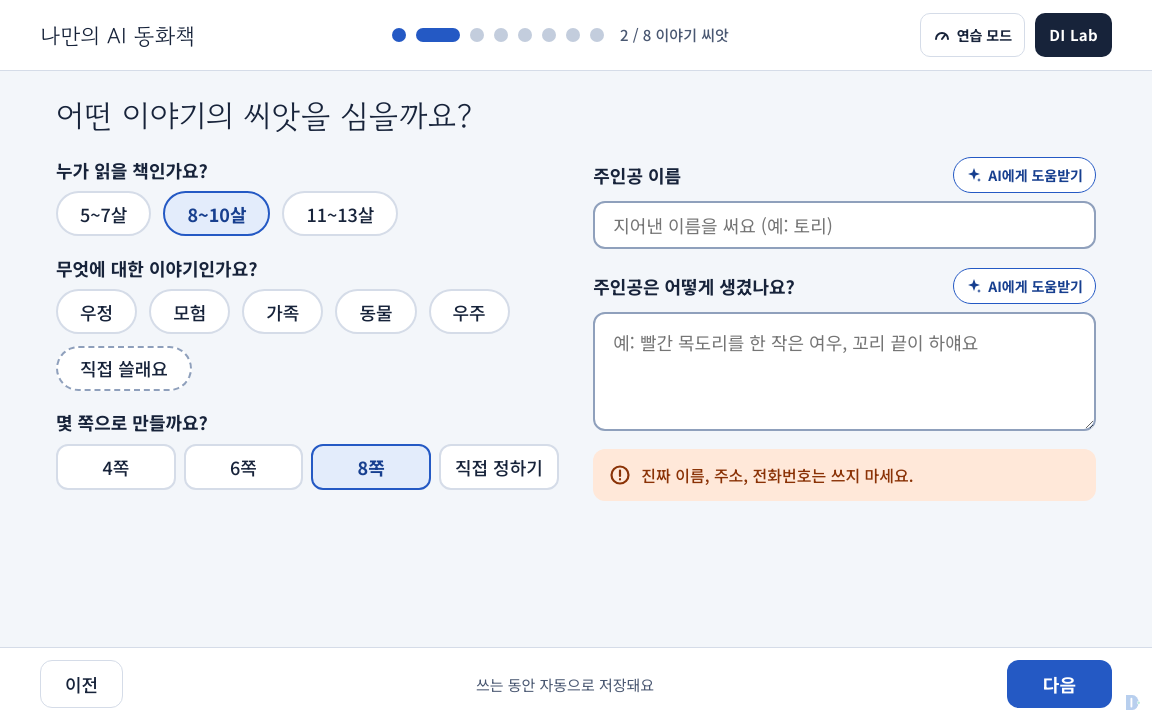
it: SeedScreen › a topic chip stores the translated word and shows as pressed
This screenshot has width=1152, height=720.
Click the button "우주" at (469, 312), box [428,289,510,334]
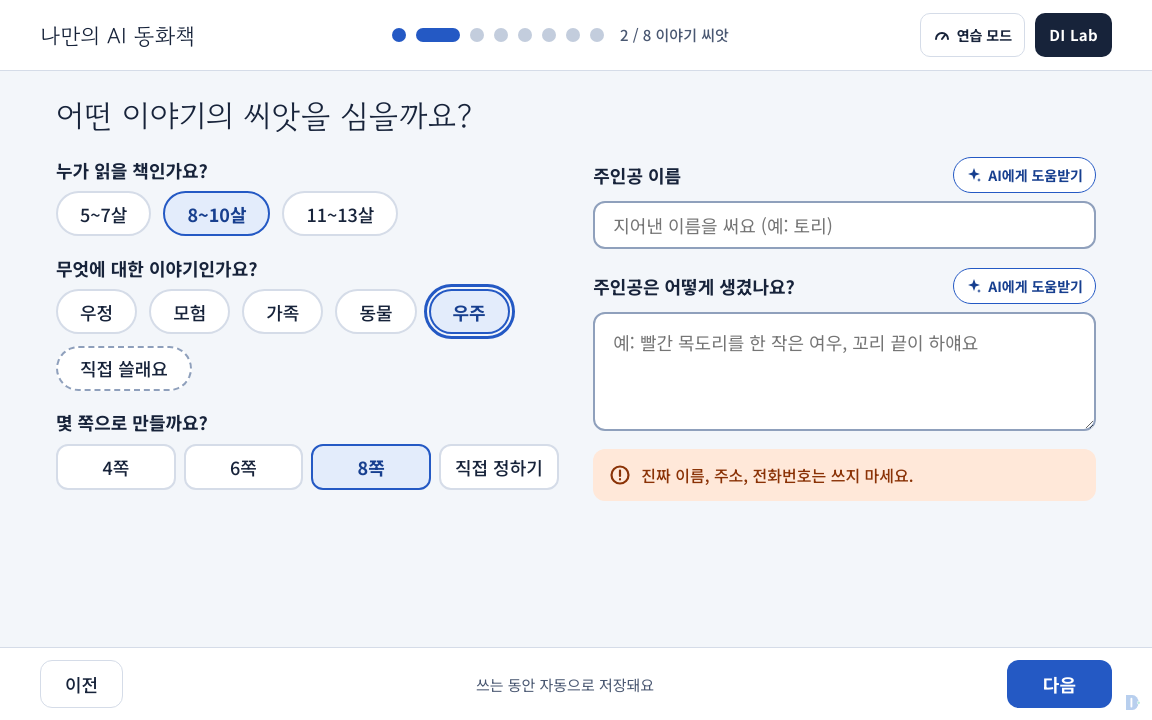
Expected: the button "우주" is pressed, [428,289,510,334]
